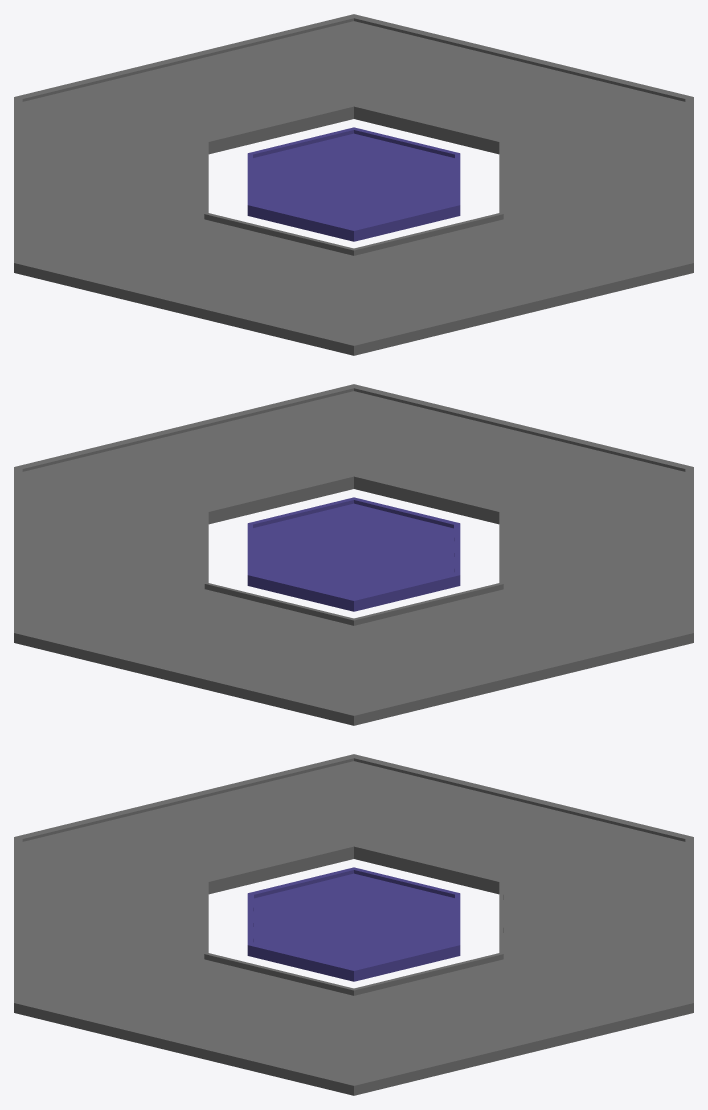
Rendered from HexagonalFloor.fbx.
The picture shows the model from 3 angles, top to bottom: view 1: azimuth 30°, elevation 25°; view 2: azimuth 150°, elevation 25°; view 3: azimuth 270°, elevation 25°; orthographic projection.
Visible parts, largest first — view 1: LargeHexagon, SmallHexagon; view 2: LargeHexagon, SmallHexagon; view 3: LargeHexagon, SmallHexagon.
Boxes of the visible parts, <box> form: LargeHexagon: <box>14,14,693,355</box>; SmallHexagon: <box>247,127,460,241</box>; LargeHexagon: <box>14,384,693,725</box>; SmallHexagon: <box>247,497,460,611</box>; LargeHexagon: <box>14,754,693,1095</box>; SmallHexagon: <box>247,867,460,981</box>.
Bounding box in the file's own units: 20 × 0.3497 × 17.32.
